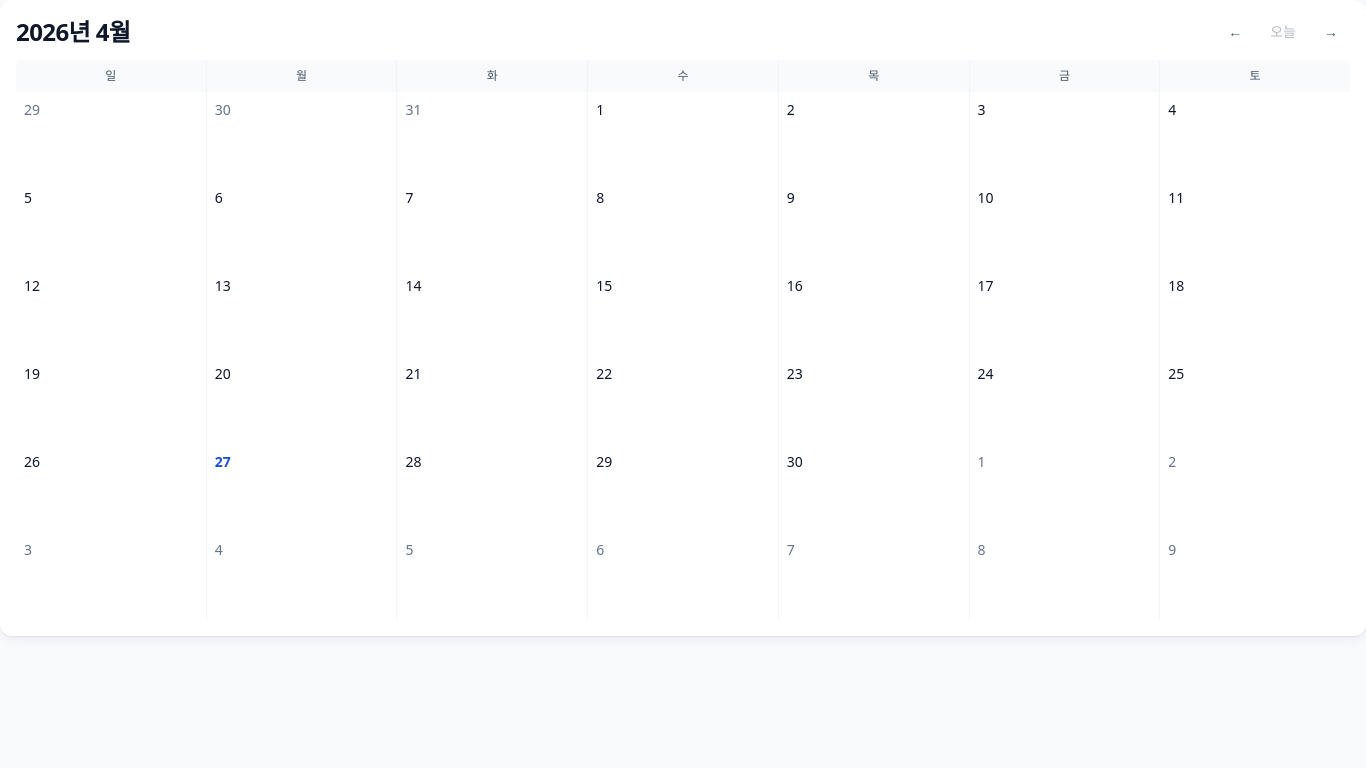
Add-todo flow (#11) › 날짜 클릭 → 패널 열림 → Enter → 목록 갱신 + 입력창 비워짐 + 카운트 증가
The width and height of the screenshot is (1366, 768).
// 진입 LOAD 완료 기다림 (셀이 렌더 끝날 때까지)
Click the cell named "2026-04-27, 오늘": (302, 488) [207, 444, 396, 532]
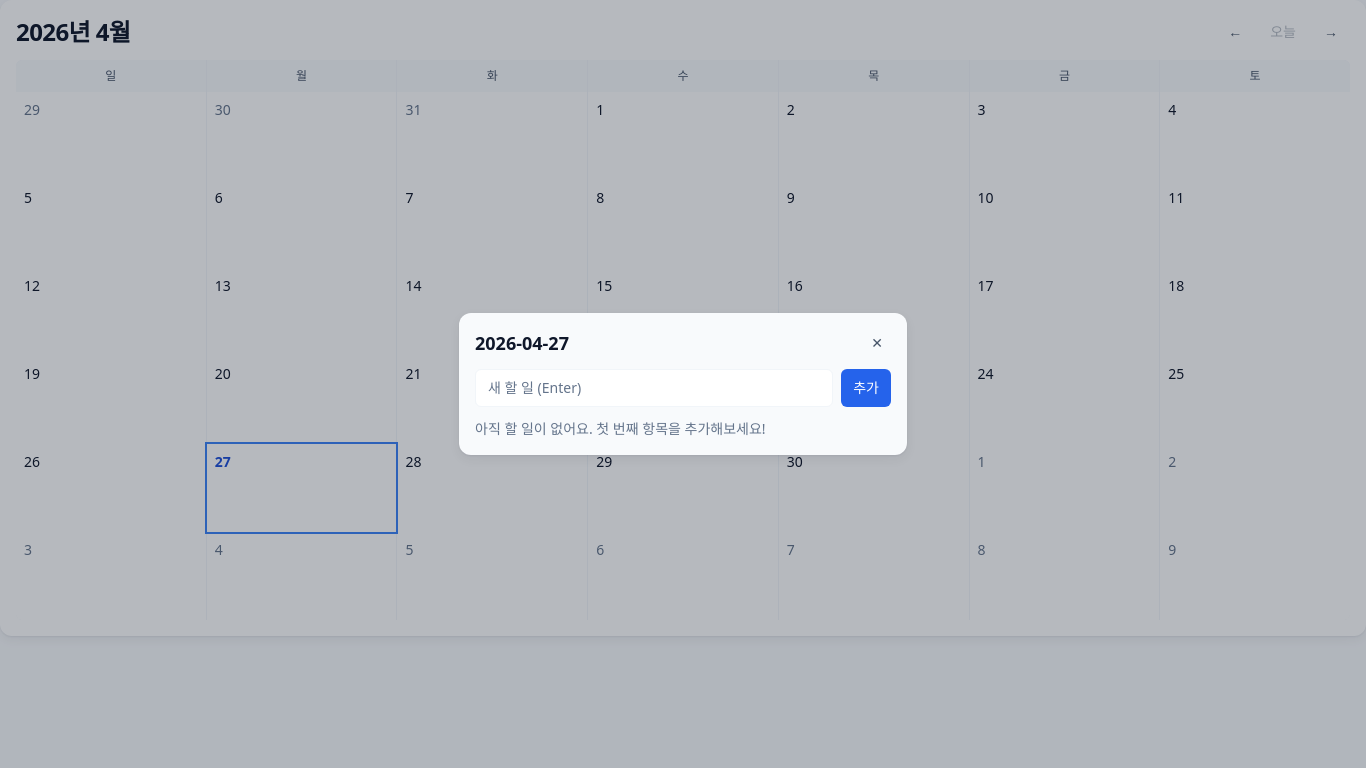
In the field with test id "todo-input": (654, 388) [475, 369, 833, 407], type "집중 시간 90분"
Then press Enter
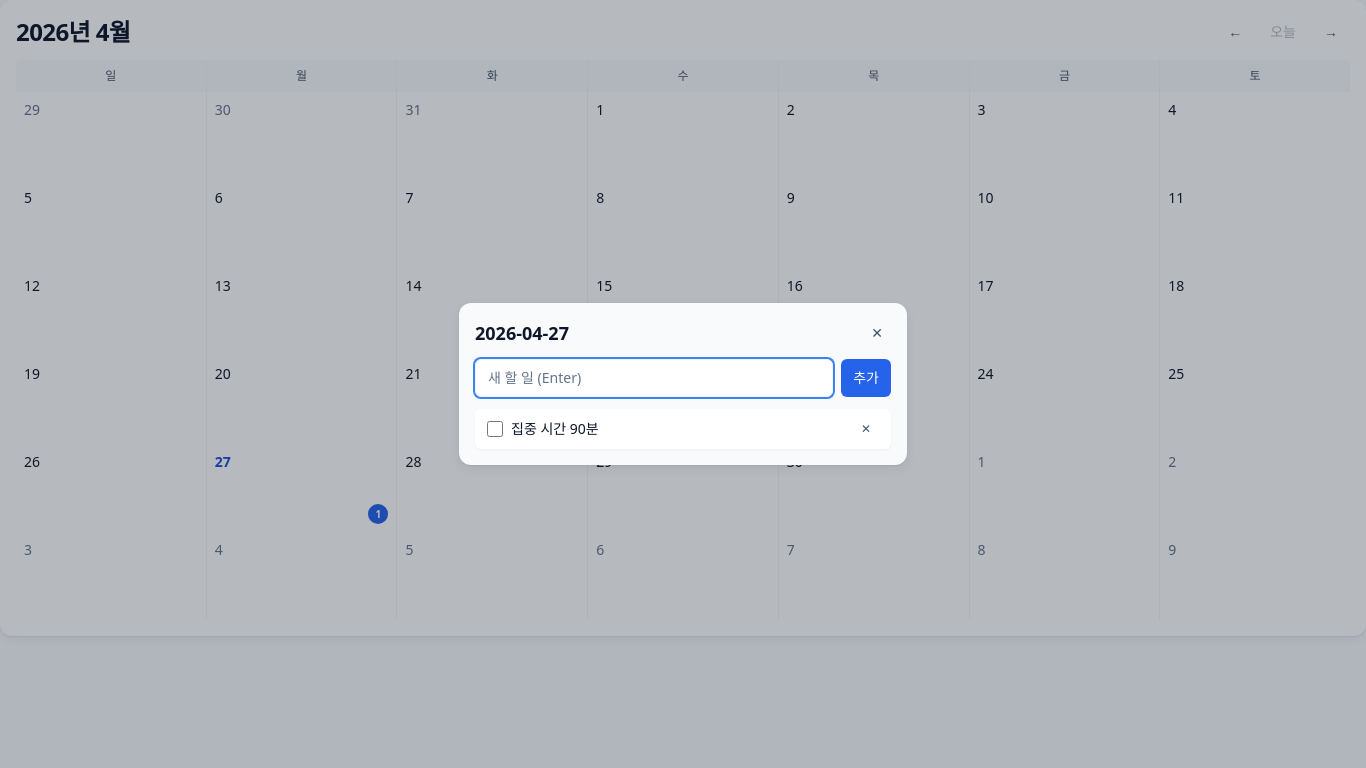
Result: the field with test id "todo-input" is empty at [475, 359, 833, 397]
Result: the number of list items with test id "todo-item" is 1 at [475, 409, 891, 449]
Result: the text with test id "todo-title" reads "집중 시간 90분" at [511, 419, 599, 438]
